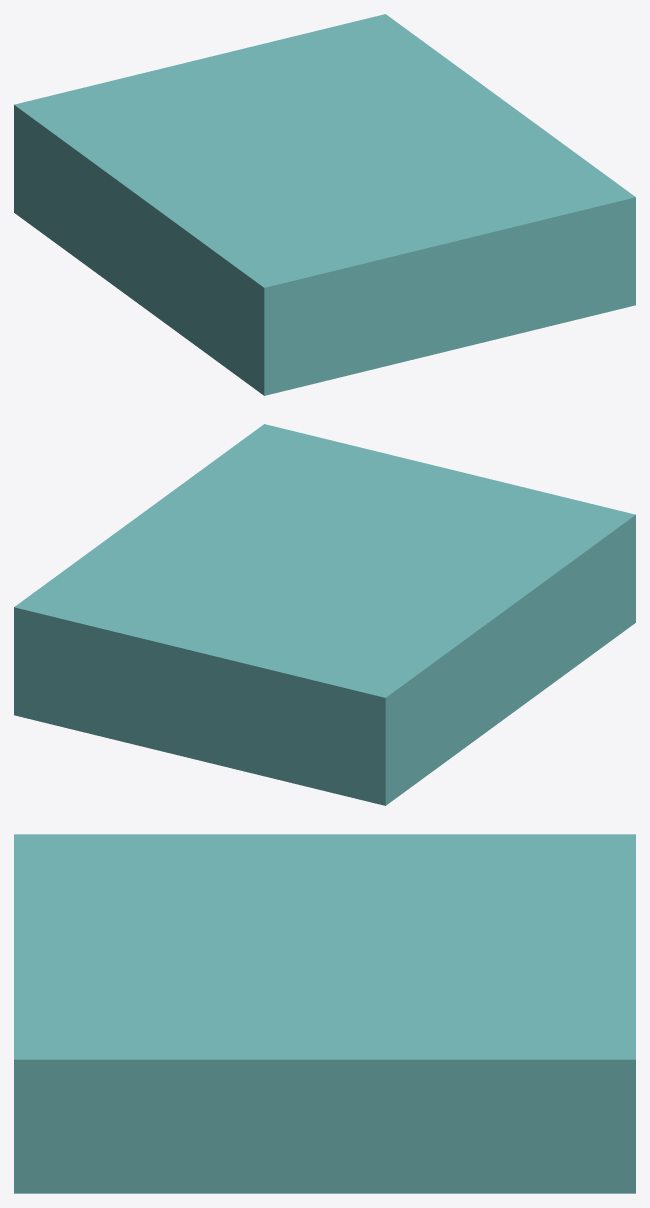
Rendered from induck-cap-v1.glb.
3 views of the same model, one above another, from view 1: azimuth 30°, elevation 25°; view 2: azimuth 150°, elevation 25°; view 3: azimuth 270°, elevation 25° (orthographic). The views are drawn at different scales.
Parts seen in each view (by area): view 1: qa_head_5, qa_head_3, qa_head_2, qa_head_4, qa_head_0, qa_head_1; view 2: qa_head_5, qa_head_3, qa_head_2, qa_head_4, qa_head_0, qa_head_1; view 3: qa_head_5, qa_head_0, qa_head_1, qa_head_2, qa_head_3, qa_head_4.
Boxes of the visible parts, x1=… form: qa_head_5: x1=14, y1=14, x2=635, y2=305; qa_head_3: x1=14, y1=141, x2=635, y2=341; qa_head_2: x1=14, y1=159, x2=635, y2=359; qa_head_4: x1=14, y1=123, x2=635, y2=323; qa_head_0: x1=14, y1=195, x2=635, y2=395; qa_head_1: x1=14, y1=177, x2=635, y2=377; qa_head_5: x1=14, y1=424, x2=635, y2=715; qa_head_3: x1=14, y1=551, x2=635, y2=751; qa_head_2: x1=14, y1=569, x2=635, y2=769; qa_head_4: x1=14, y1=533, x2=635, y2=733; qa_head_0: x1=14, y1=605, x2=635, y2=805; qa_head_1: x1=14, y1=587, x2=635, y2=787; qa_head_5: x1=14, y1=834, x2=635, y2=1081; qa_head_0: x1=14, y1=1171, x2=635, y2=1193; qa_head_1: x1=14, y1=1149, x2=635, y2=1171; qa_head_2: x1=14, y1=1126, x2=635, y2=1148; qa_head_3: x1=14, y1=1104, x2=635, y2=1126; qa_head_4: x1=14, y1=1082, x2=635, y2=1104.
Bounding box in the file's own units: 0.18 × 0.05 × 0.21.
